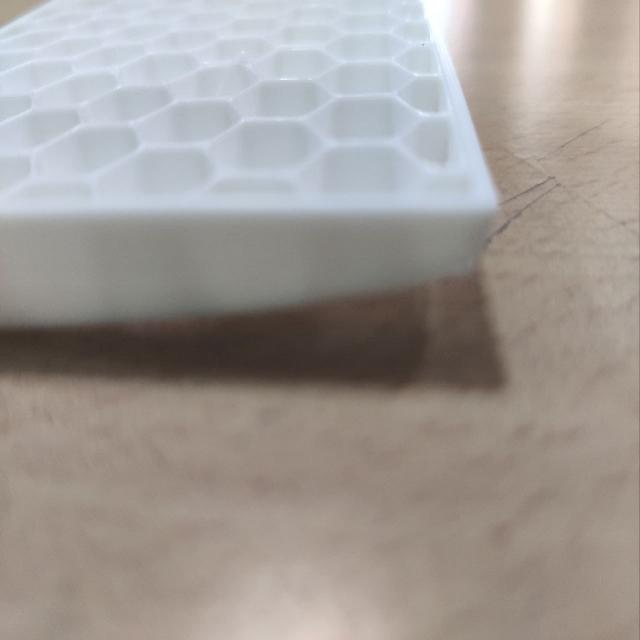warping: (284, 255, 500, 379)
